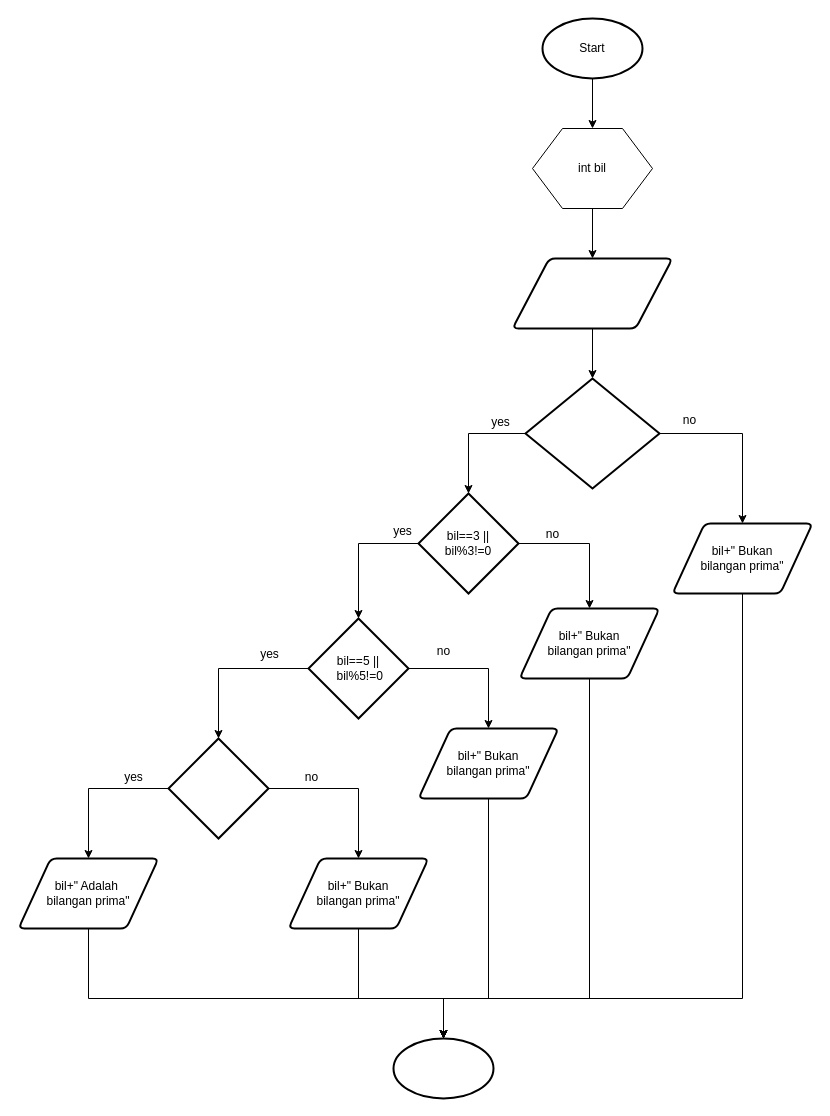
Image size: 830x1116. Some labels were removed from this diagram. Each missing label, with the centre of its shape:
"Masukkan Bilangan Yang Ingin Di Tes" get bil: the point at 592,293
bil == 2 || bil != 1 && bil %2!=0: the point at 592,433
bil==7 || bil%7!=0: the point at 218,788
End: the point at 443,1068
